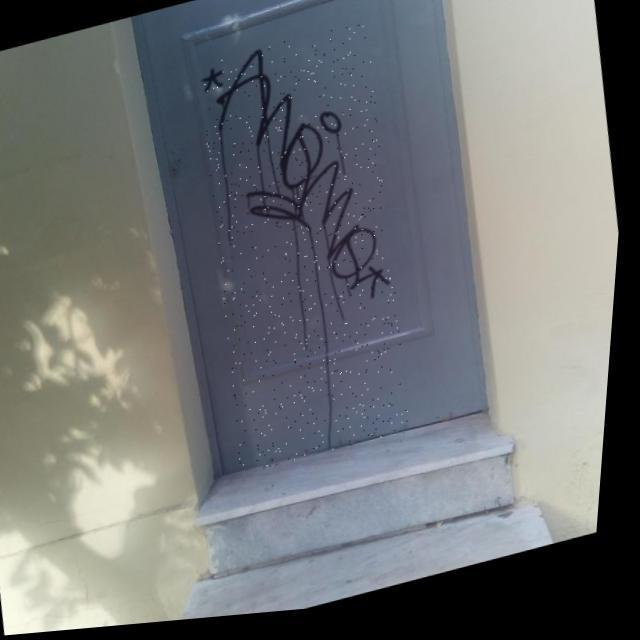-: (174, 20, 440, 484)
